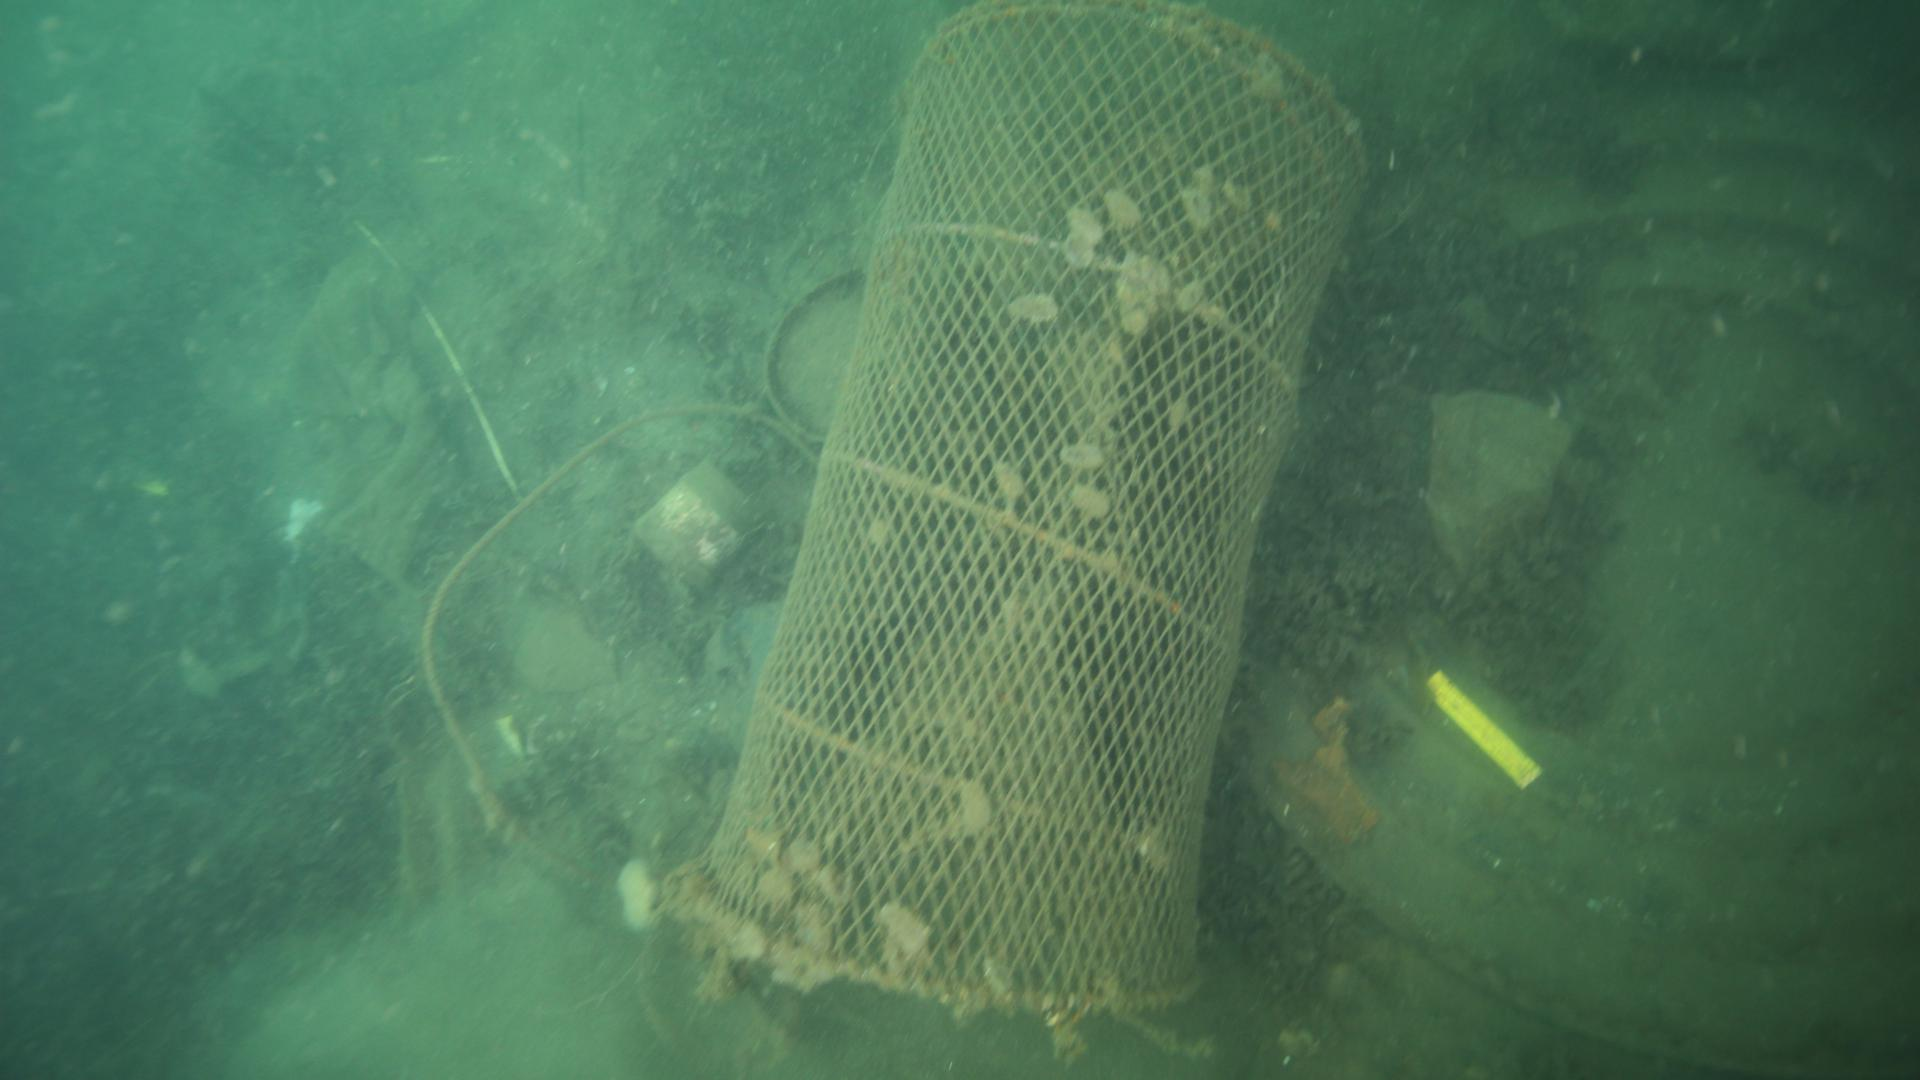rope: (419, 401, 819, 876), (761, 261, 872, 448)
spring fish trap: (671, 7, 1374, 1025)
